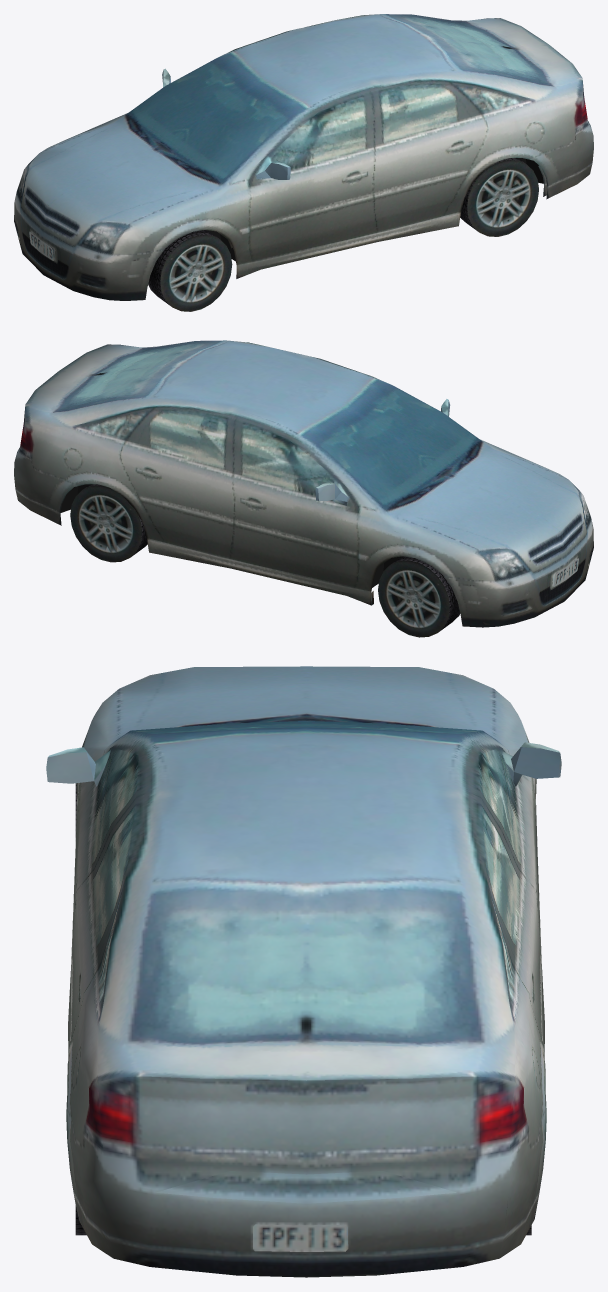
File: carro plata.FBX
3 views of the same model, one above another, from view 1: azimuth 30°, elevation 25°; view 2: azimuth 150°, elevation 25°; view 3: azimuth 270°, elevation 25° (orthographic). The views are drawn at different scales.
Parts seen in each view (by area): view 1: car076, wheel car 005, wheel car 2; view 2: car076, wheel car 004, wheel car 003; view 3: car076.
Boxes of the visible parts, <box> form: car076: <box>14,14,593,300</box>; wheel car 005: <box>148,230,232,311</box>; wheel car 2: <box>460,158,538,236</box>; car076: <box>14,340,593,627</box>; wheel car 004: <box>378,556,460,637</box>; wheel car 003: <box>70,484,147,562</box>; car076: <box>46,666,561,1277</box>.
Bounding box in the file's own units: 4.61 × 1.42 × 1.97.
3 materials, 3 textured.
